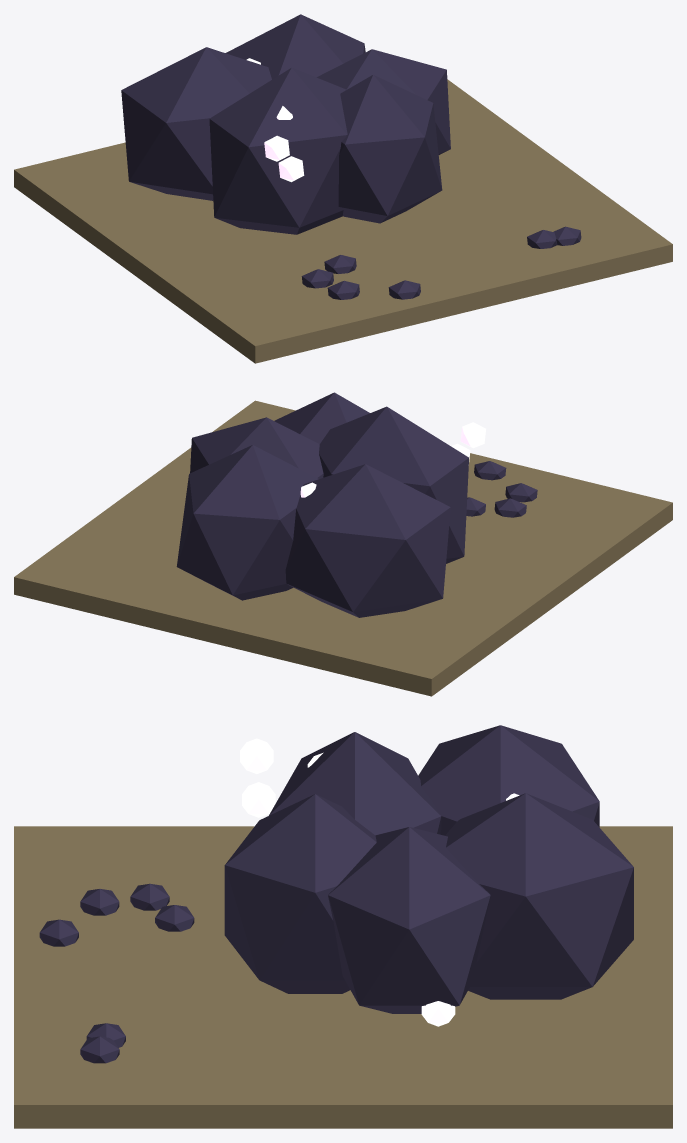
Rendered from Deposit_Starlight_Mining.fbx.
3 renders of one model, top to bottom at view 1: azimuth 30°, elevation 25°; view 2: azimuth 150°, elevation 25°; view 3: azimuth 270°, elevation 25°, orthographic. The views are drawn at different scales.
Visible parts, largest first — view 1: Deposit_Starlight_Mining_Body; view 2: Deposit_Starlight_Mining_Body; view 3: Deposit_Starlight_Mining_Body.
Part boxes in pixels (left/top/right/bottom): Deposit_Starlight_Mining_Body: left=14, top=14, right=672, bottom=363; Deposit_Starlight_Mining_Body: left=14, top=392, right=672, bottom=696; Deposit_Starlight_Mining_Body: left=14, top=725, right=672, bottom=1128.
Bounding box in the file's own units: 1 × 0.415 × 1.
